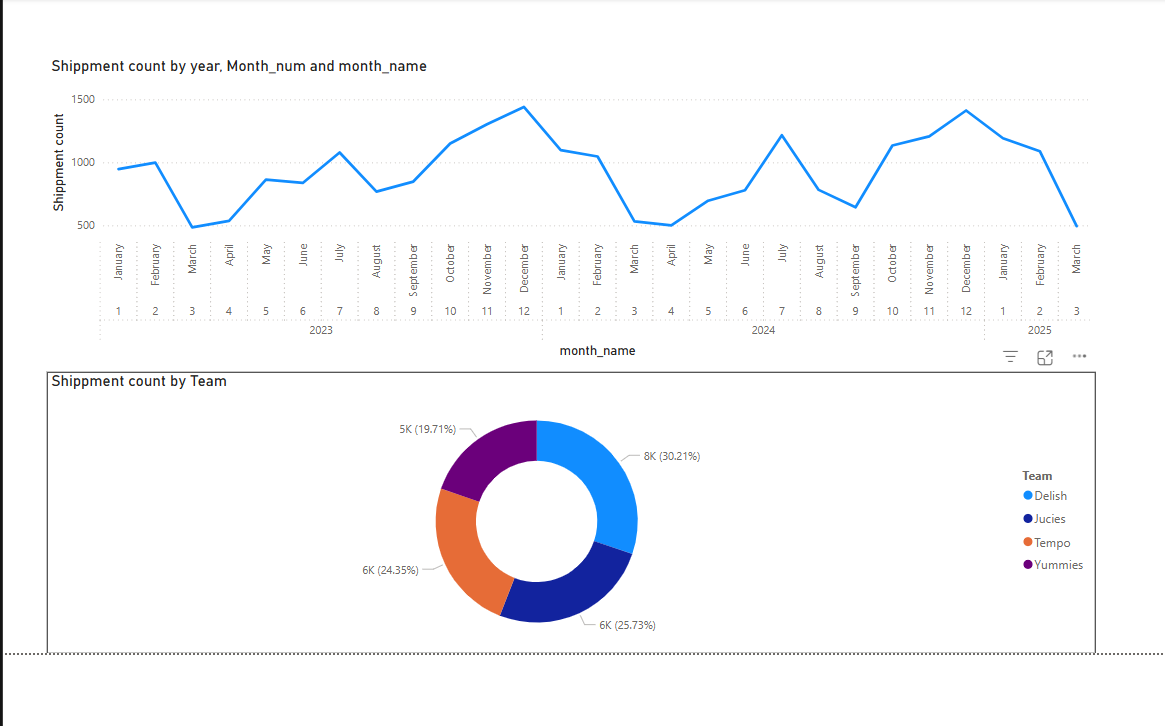

Layout of this report page (visuals, bound fields, positions):
{"tool":"powerbi","page":{"name":"Page 3","canvas":[1280,720],"ordinal":2},"visuals":[{"type":"lineChart","fields":{"Y":["shipments.Shippment count"],"Category":["calendar.year","calendar.Month_num","calendar.month_name"]},"box":[48,64,1152,336],"z":0},{"type":"donutChart","fields":{"Category":["people.Team"],"Y":["shipments.Shippment count"]},"box":[48,410,1152,310],"z":1000}]}

Visuals, with their boxes on the page's 1280x720 design canvas (x1, y1, x2, y2). These are canvas units, not pixel positions in the 1165x726 screenshot, which may show the page scaled, cropped or inside an application window:
lineChart - shipments.Shippment count x calendar.year: <box>48,64,1200,400</box>
donutChart - people.Team x shipments.Shippment count: <box>48,410,1200,720</box>
